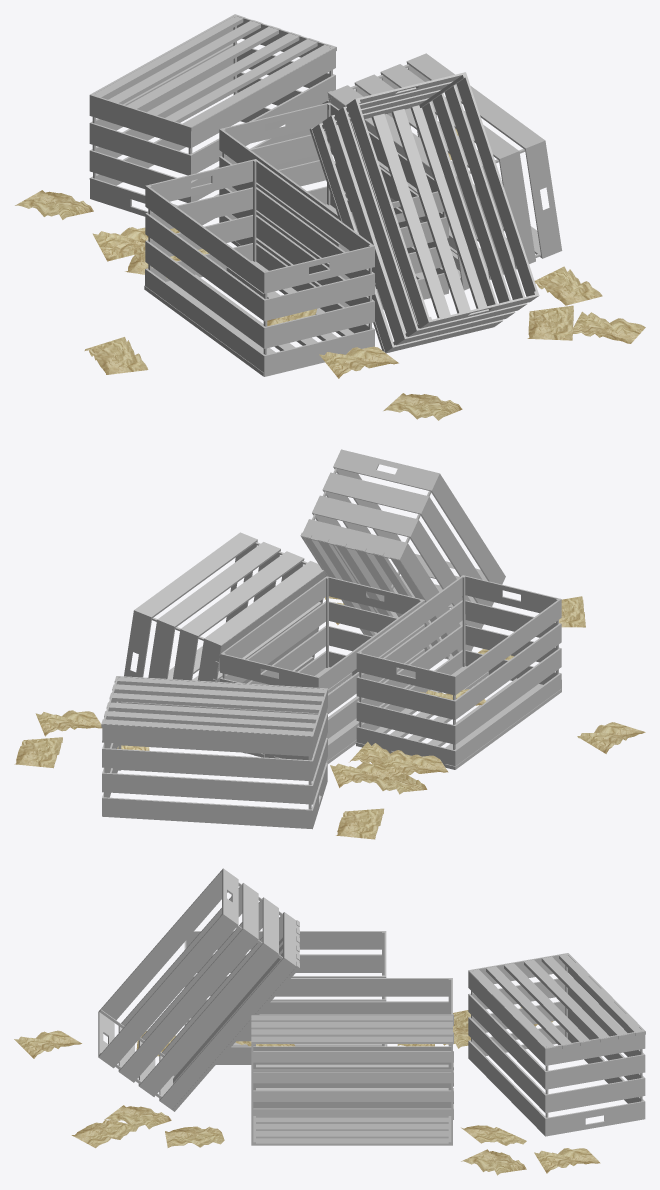
The model's file is Crates.fbx.
3 renders of one model, top to bottom at view 1: azimuth 30°, elevation 25°; view 2: azimuth 150°, elevation 25°; view 3: azimuth 270°, elevation 25°, orthographic. The views are drawn at different scales.
Visible parts, largest first — view 1: Crate, Paper, pPlane17, pPlane15; view 2: Crate, Paper; view 3: Crate, Paper, pPlane17.
Boxes of the visible parts, box(x1,y1,x2,y2) form: Crate: box(89, 14, 562, 376); Paper: box(15, 128, 629, 420); pPlane17: box(536, 266, 601, 305); pPlane15: box(575, 312, 645, 343); Crate: box(101, 449, 561, 829); Paper: box(14, 596, 645, 839); Crate: box(98, 868, 645, 1145); Paper: box(14, 1007, 600, 1175); pPlane17: box(165, 1126, 224, 1147).
Size of the model in its own units: 14.04 by 5.99 by 17.16.
